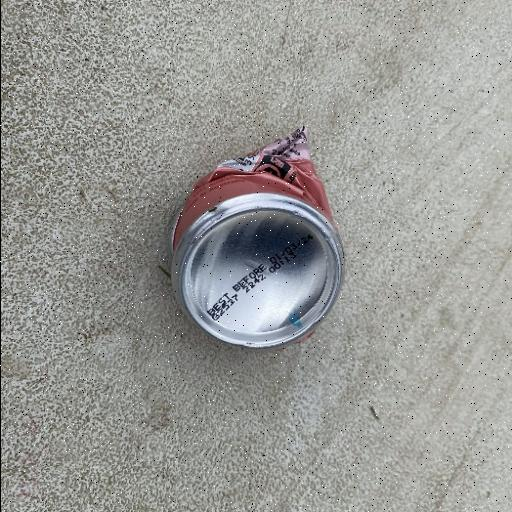Metal: (165, 124, 346, 352)
